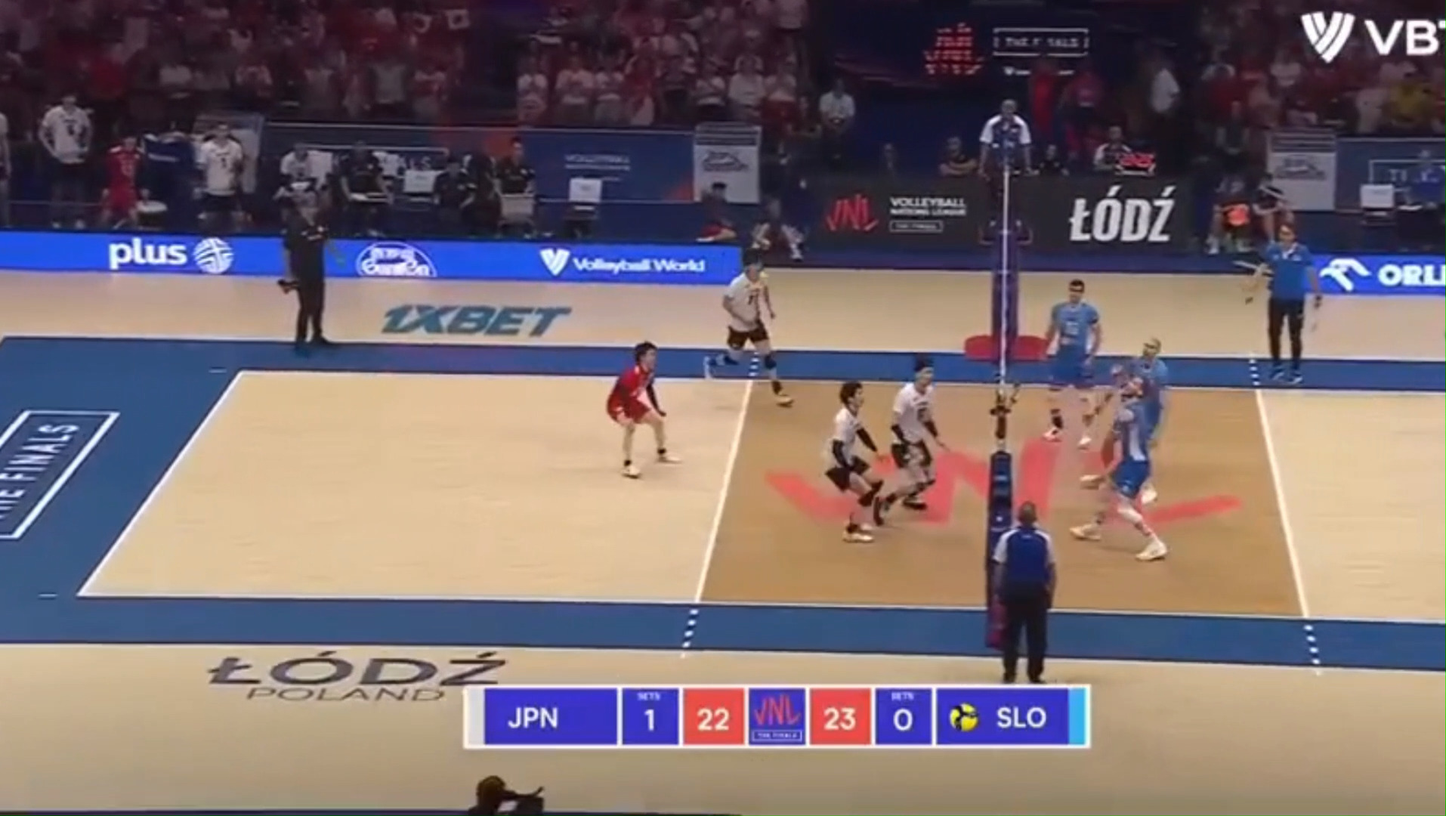player: (1071, 369, 1168, 561), (1043, 279, 1102, 448), (1130, 338, 1168, 504)
player 1: (704, 249, 791, 406), (875, 357, 947, 522), (607, 342, 677, 478), (826, 381, 883, 542)
referee: (991, 502, 1056, 684), (1256, 224, 1321, 382), (278, 196, 333, 351), (977, 99, 1032, 247)
